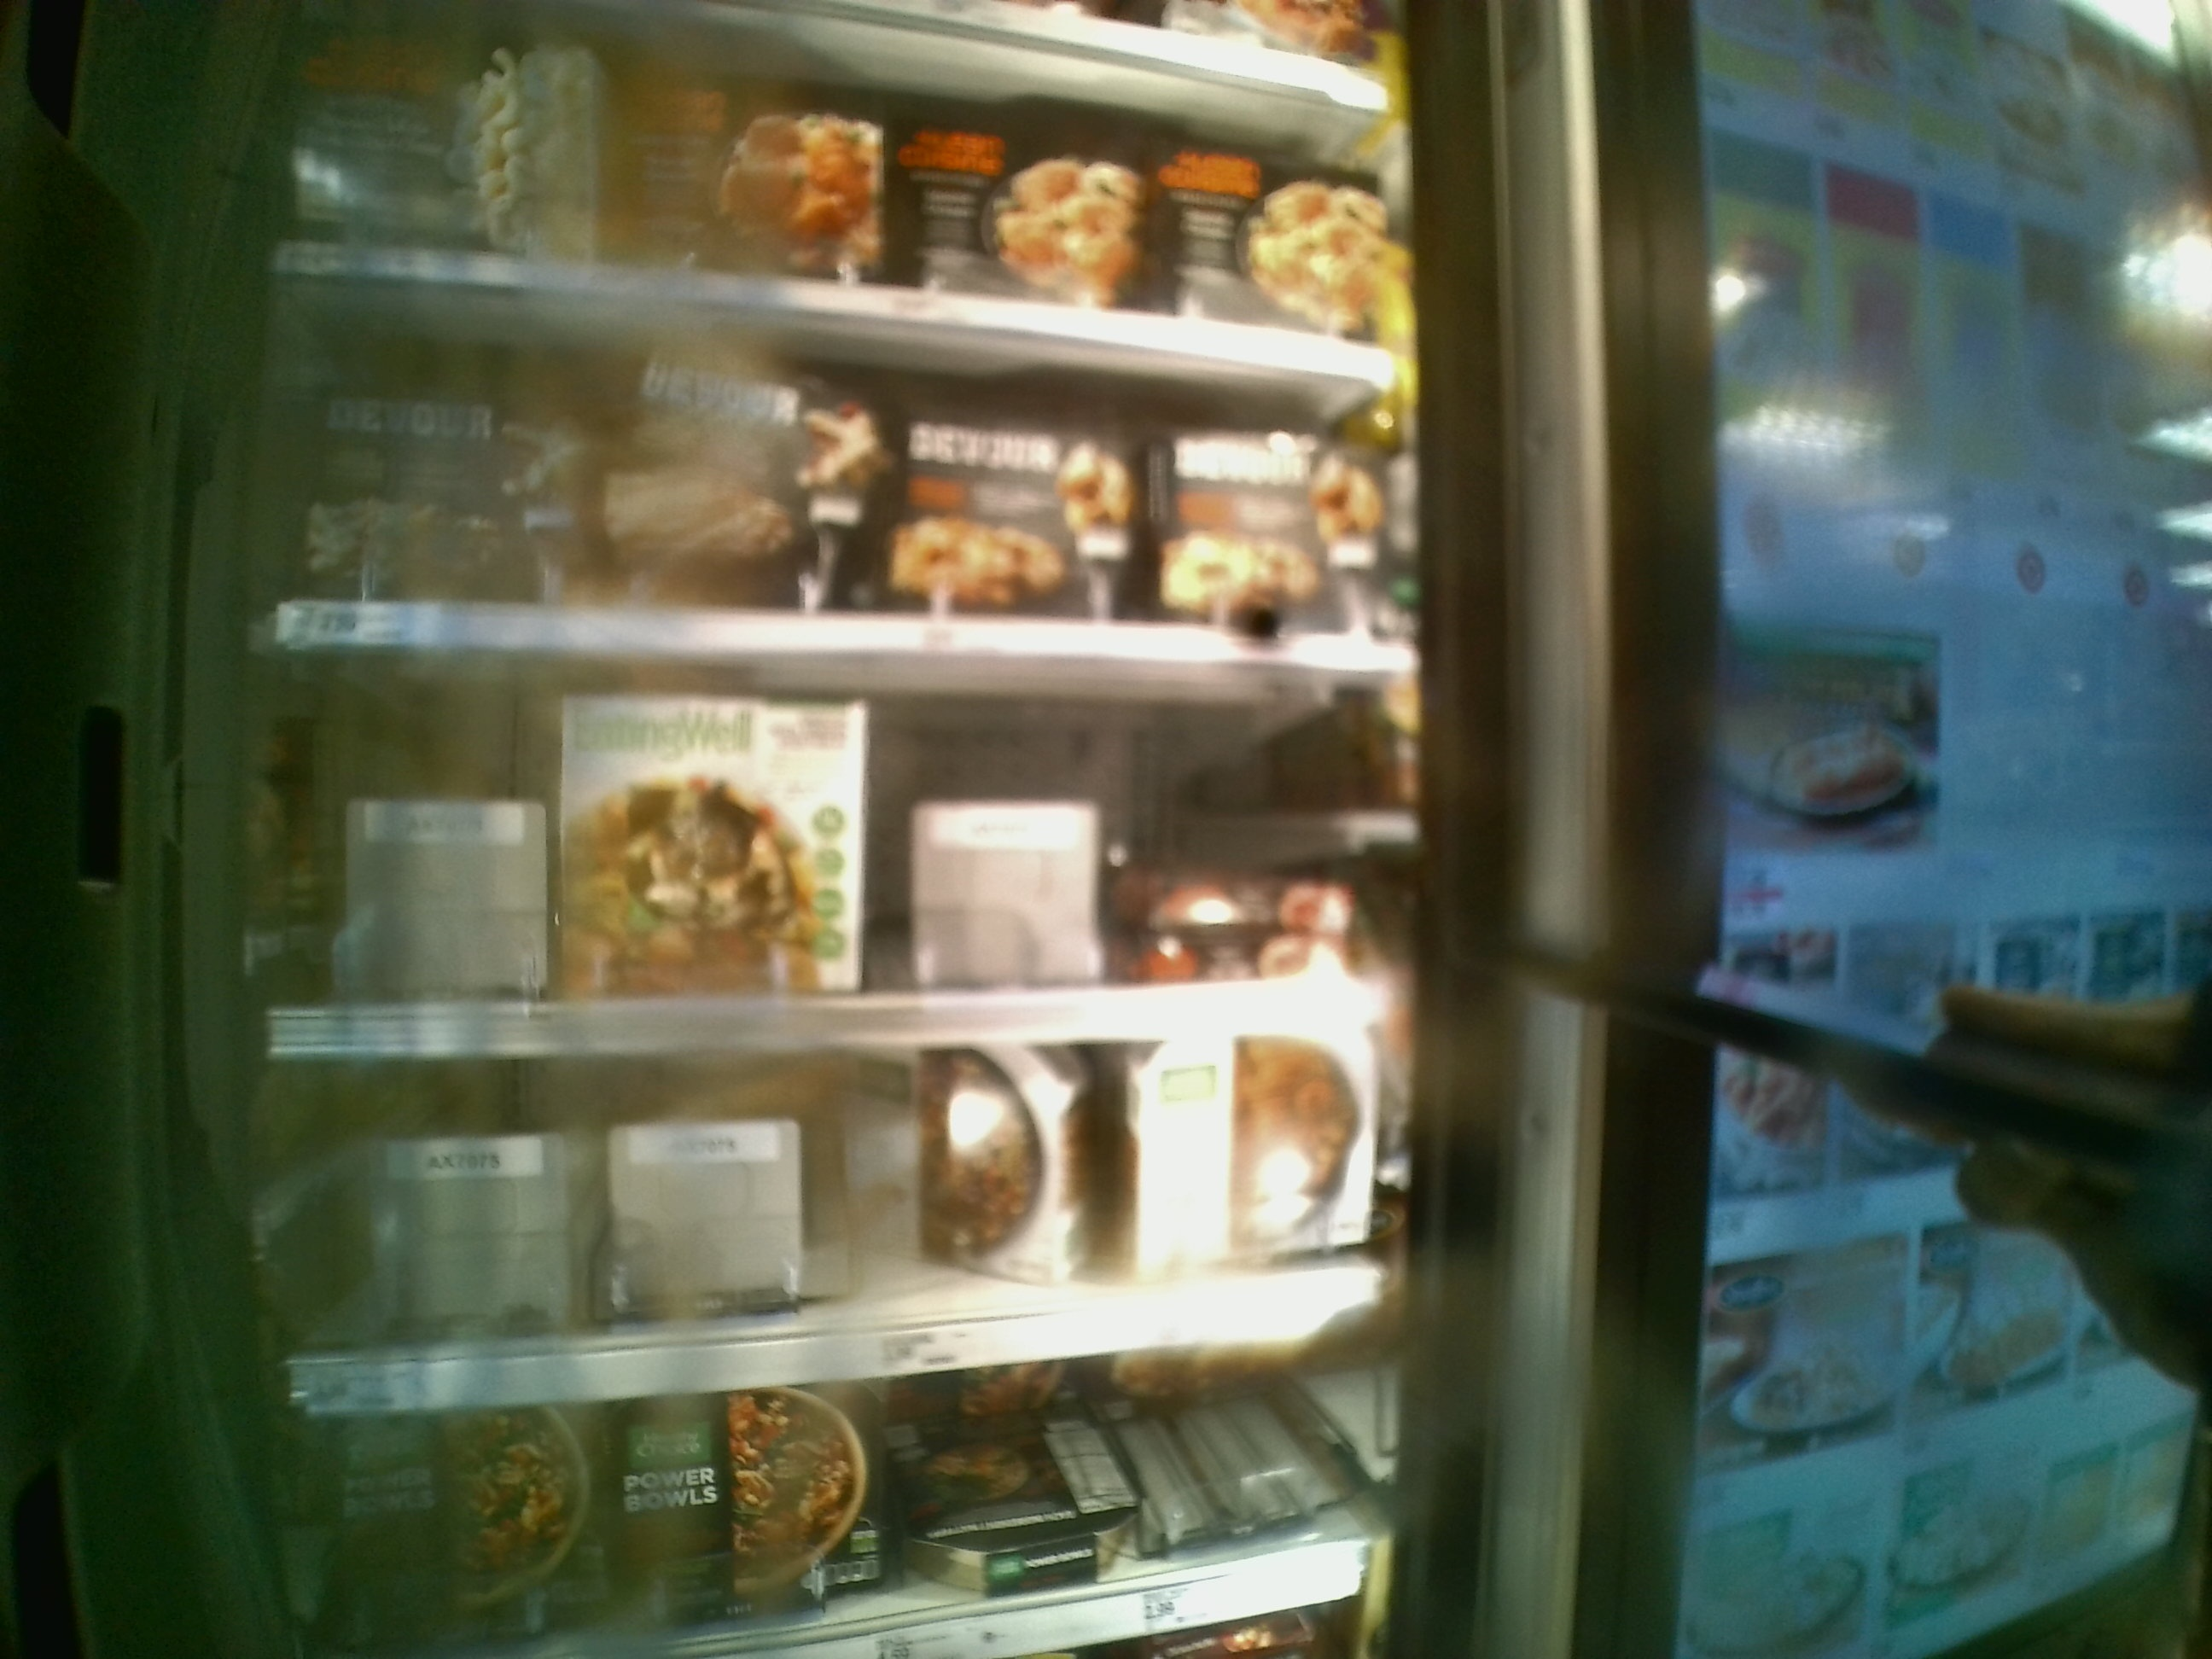shelf: (268, 636, 1400, 1054)
